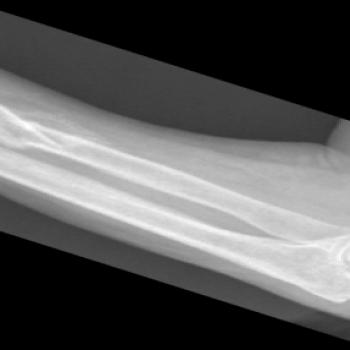Fracture: (24, 120, 67, 154)
